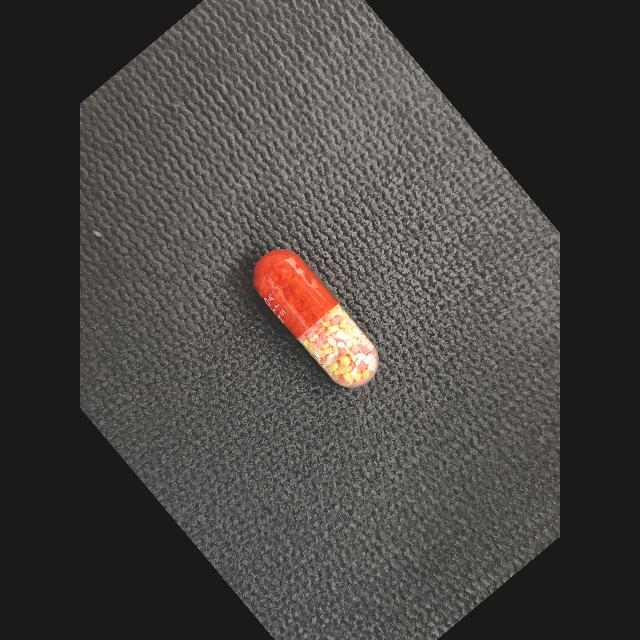Intact Capsule: (254, 249, 379, 387)
